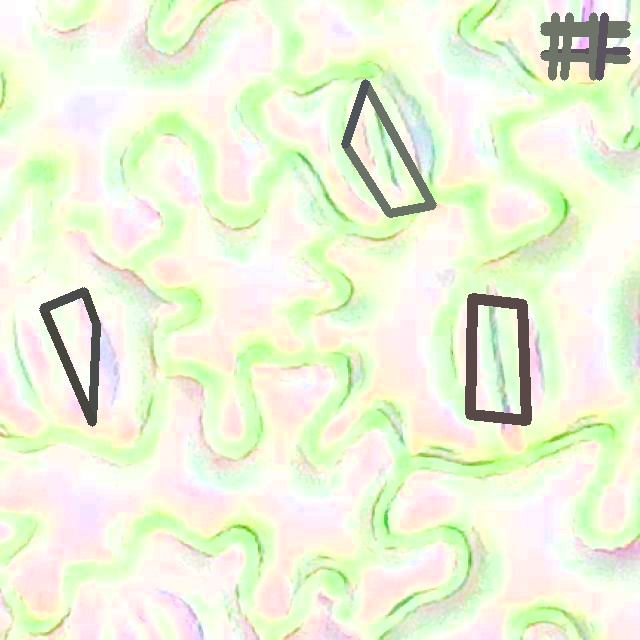close: (39, 287, 100, 426)
open: (341, 79, 436, 217), (465, 293, 526, 425), (541, 12, 629, 79)
